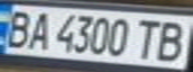0: (106, 15, 133, 57), (87, 14, 112, 56)
3: (69, 11, 93, 54)
4: (51, 10, 78, 53)
A: (24, 9, 54, 52)
B: (151, 18, 193, 62), (0, 7, 36, 50)
T: (130, 16, 163, 61)
